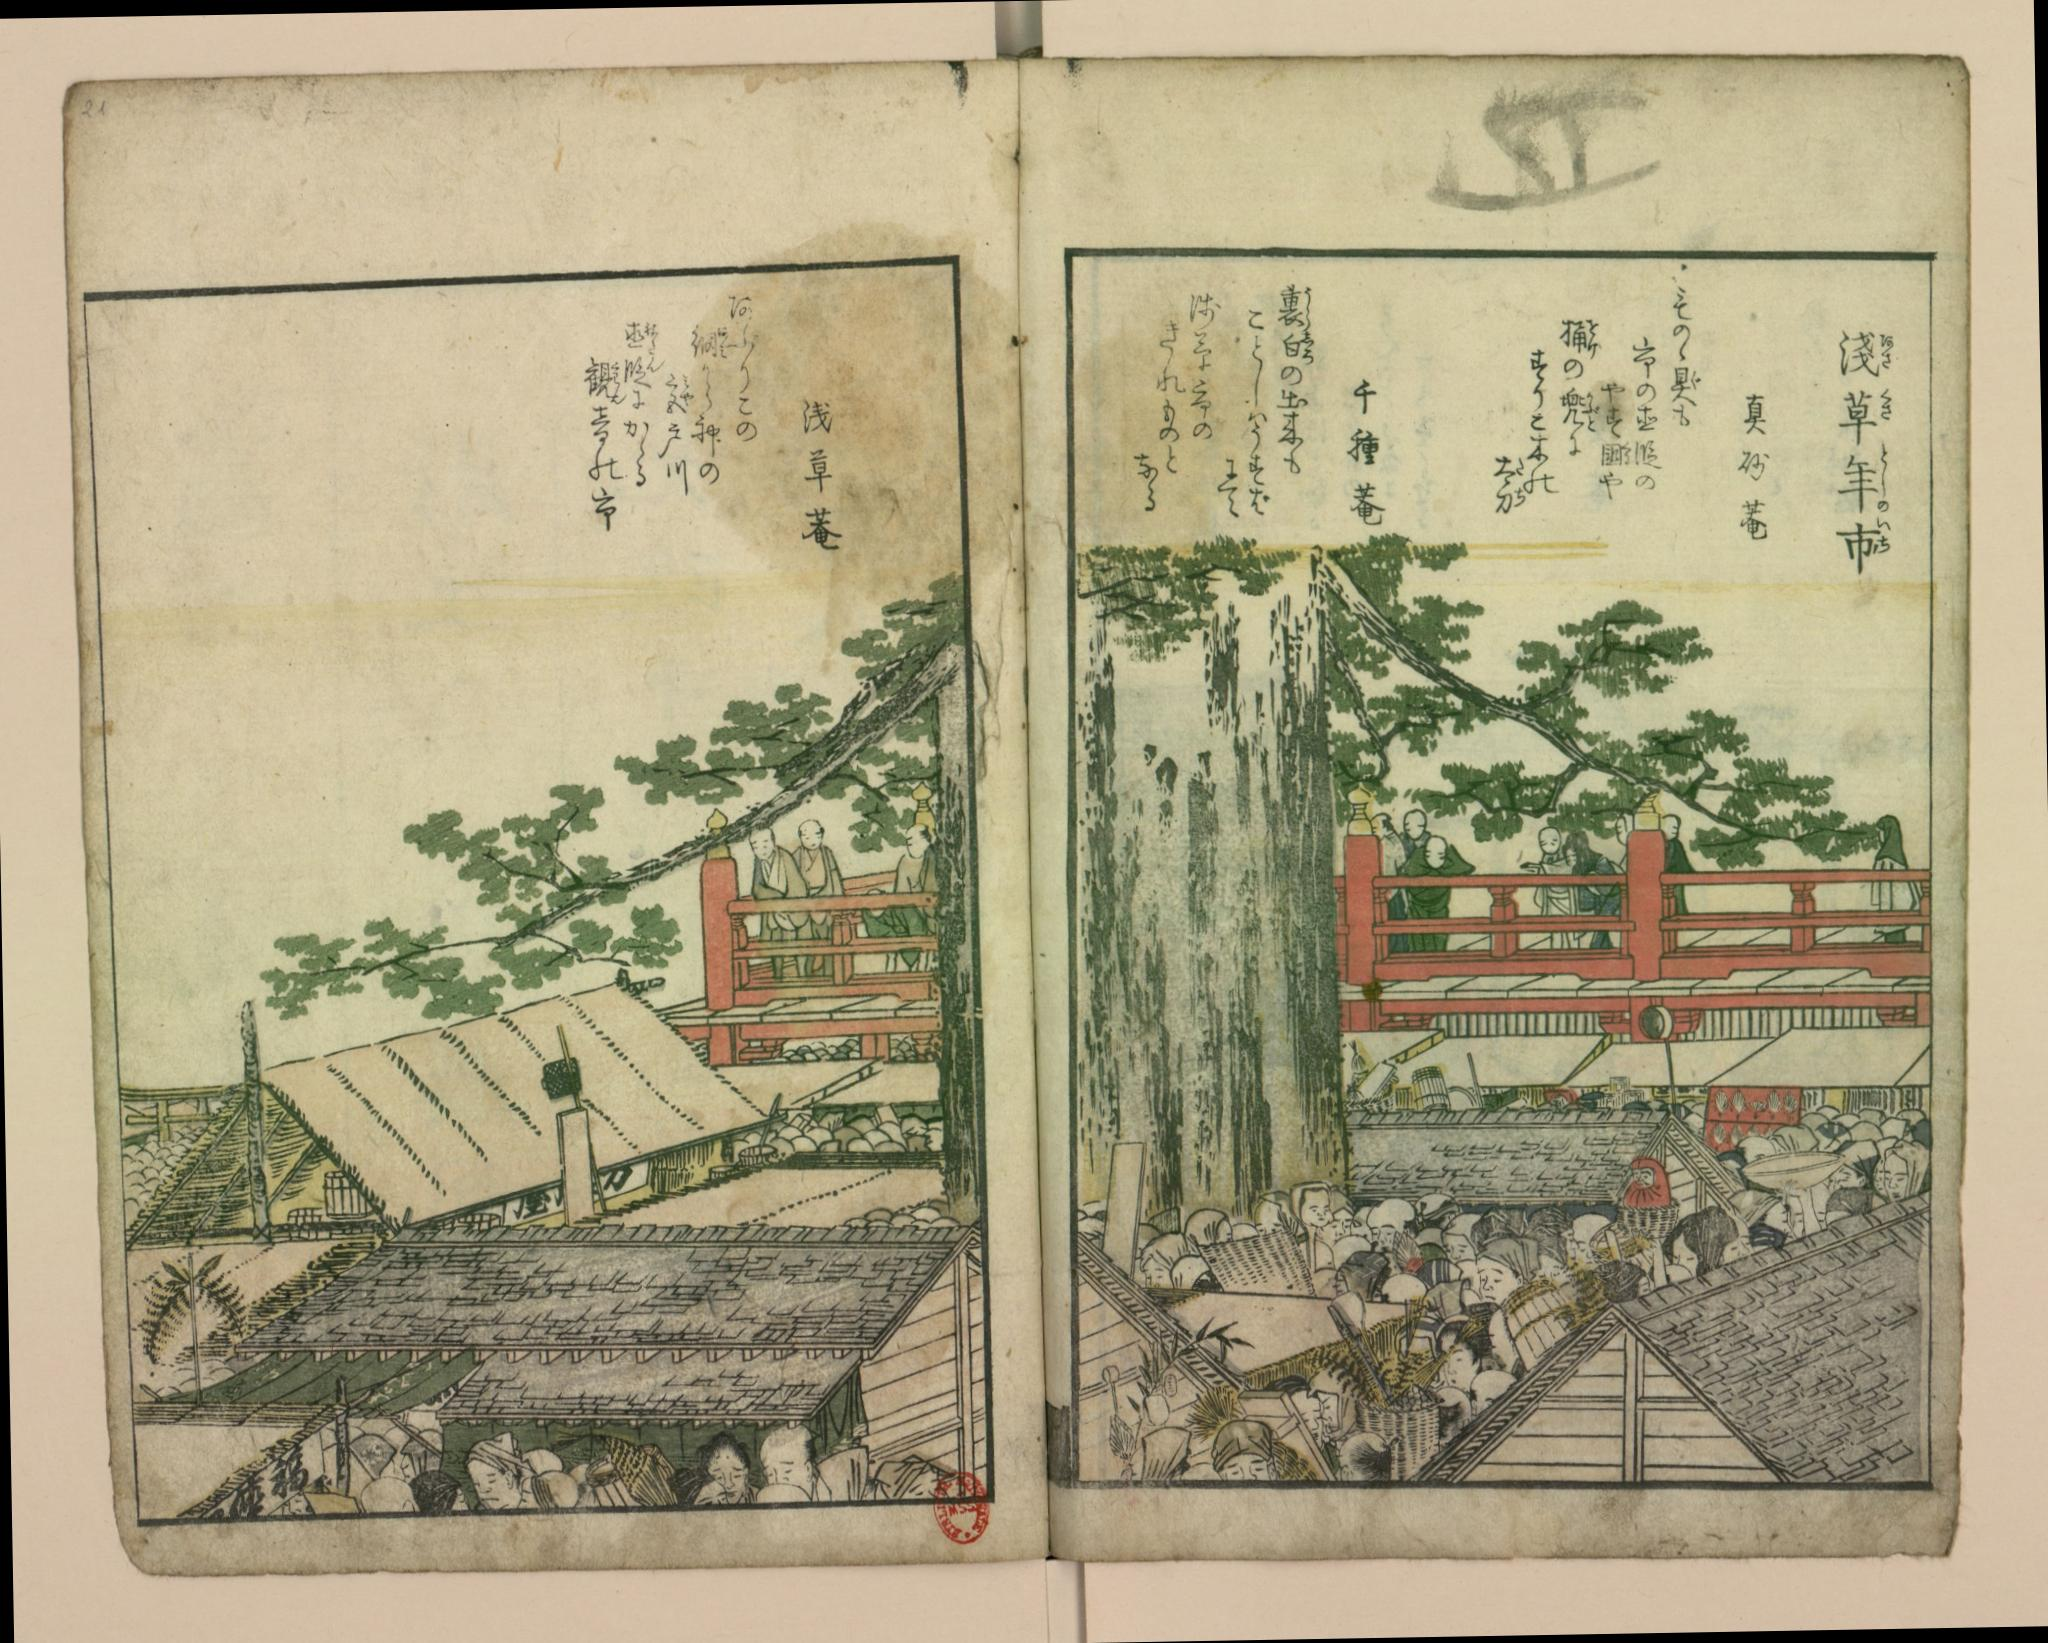MainZone-Character: (1839, 441, 1894, 513), (1837, 515, 1901, 577), (1832, 325, 1899, 377), (1837, 386, 1897, 436), (577, 354, 627, 406), (1552, 312, 1602, 357), (685, 319, 737, 359), (1274, 280, 1316, 327), (1560, 387, 1602, 434), (620, 354, 669, 391), (1669, 365, 1706, 409), (662, 369, 696, 416), (1279, 329, 1319, 364), (622, 319, 660, 350), (1490, 453, 1528, 483), (1495, 483, 1528, 515), (1597, 438, 1632, 468)
MainZone-Ruby: (1875, 441, 1889, 513), (1582, 387, 1604, 431), (1874, 330, 1895, 372), (1872, 515, 1894, 553), (612, 357, 627, 406), (717, 322, 736, 357), (1879, 387, 1897, 421), (1587, 314, 1602, 354), (679, 369, 694, 409), (1301, 329, 1316, 362), (644, 320, 659, 350), (1302, 282, 1312, 325), (645, 354, 669, 372), (1688, 365, 1703, 391), (1512, 486, 1527, 506), (1621, 441, 1632, 466), (1515, 456, 1527, 478)
